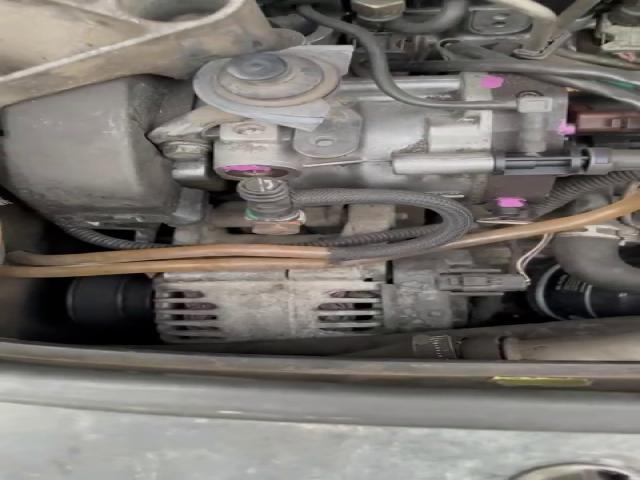alternator: (142, 247, 528, 345)
high_pressure_pump: (200, 70, 592, 217)
